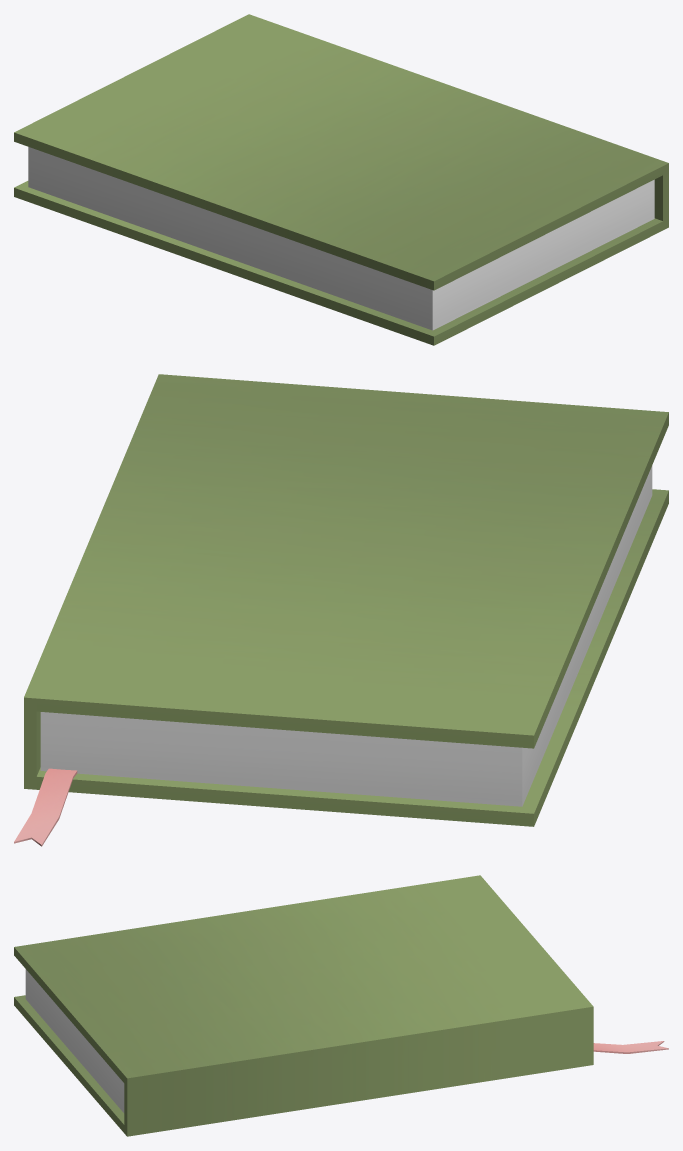
The model's file is Desk_Agenda.FBX.
3 renders of one model, top to bottom at view 1: azimuth 30°, elevation 25°; view 2: azimuth 150°, elevation 25°; view 3: azimuth 270°, elevation 25°, orthographic. The views are drawn at different scales.
Parts seen in each view (by area): view 1: Agenda; view 2: Agenda; view 3: Agenda.
Boxes of the visible parts, x1,y1,x2,y2 form: Agenda: (14,14,668,345); Agenda: (14,374,668,846); Agenda: (14,875,668,1136).
Size of the model in its own units: 10.29 by 1.38 by 14.03.
